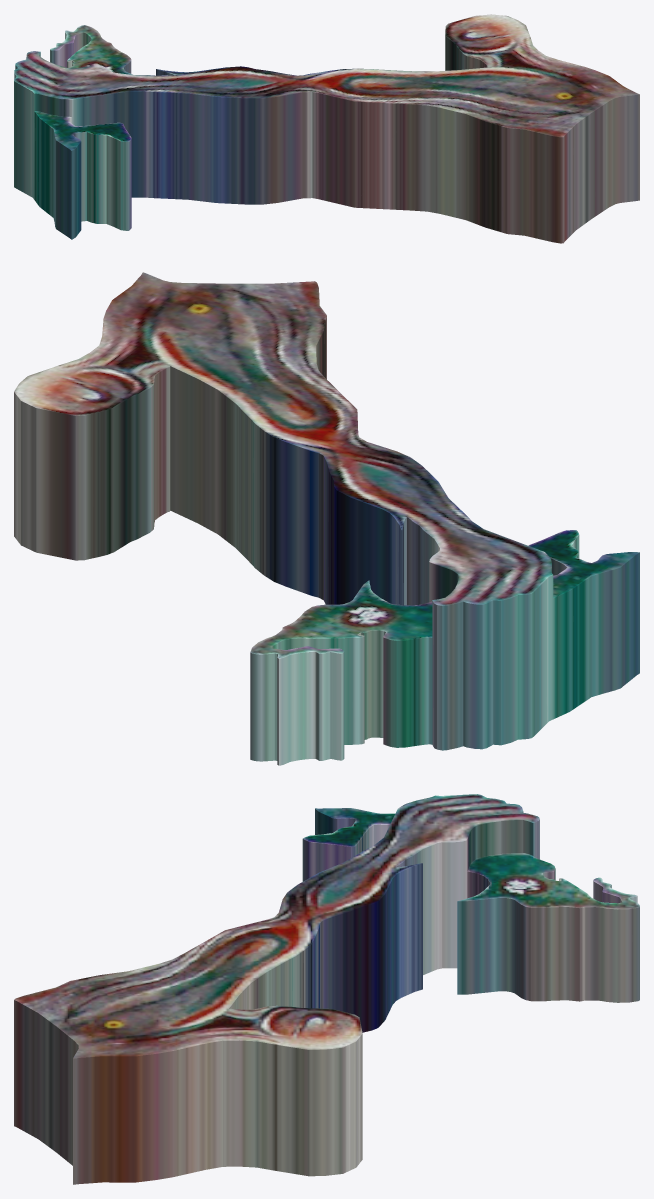
Rendered from muro el despertar del gigante 2.dae.
3 views of the same model, one above another, from view 1: azimuth 30°, elevation 25°; view 2: azimuth 150°, elevation 25°; view 3: azimuth 270°, elevation 25° (orthographic). The views are drawn at different scales.
Visible parts, largest first — view 1: SketchUp; view 2: SketchUp; view 3: SketchUp.
Part boxes in pixels (x1,y1,x2,y2): SketchUp: (14, 14, 639, 243); SketchUp: (14, 272, 639, 765); SketchUp: (14, 794, 639, 1184).
Bounding box in the file's own units: 35.43 × 34.56 × 7.69.
Materials: 1 (1 with a texture image).
